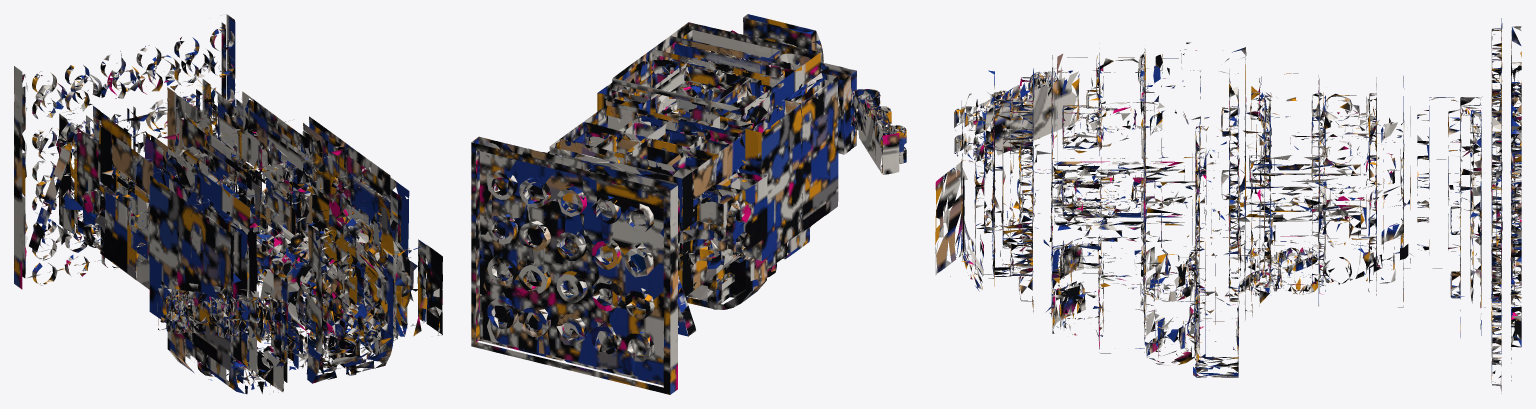
File: 15-trellis-donald.glb
3 renders of one model, left to right at view 1: azimuth 30°, elevation 25°; view 2: azimuth 150°, elevation 25°; view 3: azimuth 270°, elevation 25°, orthographic. The views are drawn at different scales.
Parts seen in each view (by area): view 1: geometry_0; view 2: geometry_0; view 3: geometry_0.
Boxes of the visible parts, left/top/right/bottom form: geometry_0: left=14, top=14, right=442, bottom=394; geometry_0: left=471, top=14, right=906, bottom=394; geometry_0: left=935, top=18, right=1521, bottom=393.
Bounding box in the file's own units: 0.6338 × 0.5184 × 1.
Materials: 1 (1 with a texture image).
